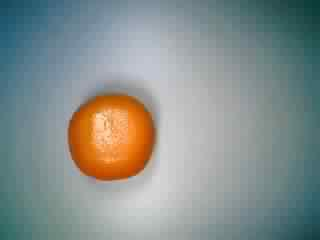orange: (65, 88, 160, 190)
